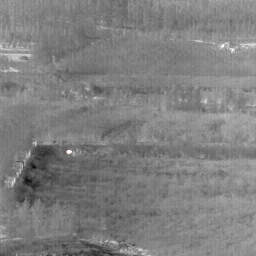Target: (65, 149, 73, 156)
